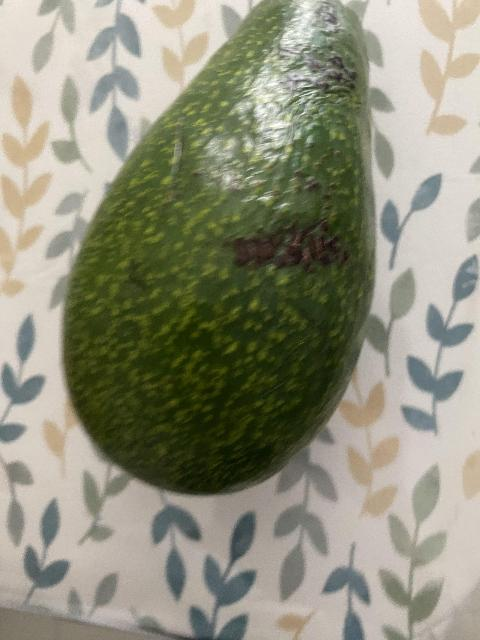Organik: (59, 0, 383, 494)
